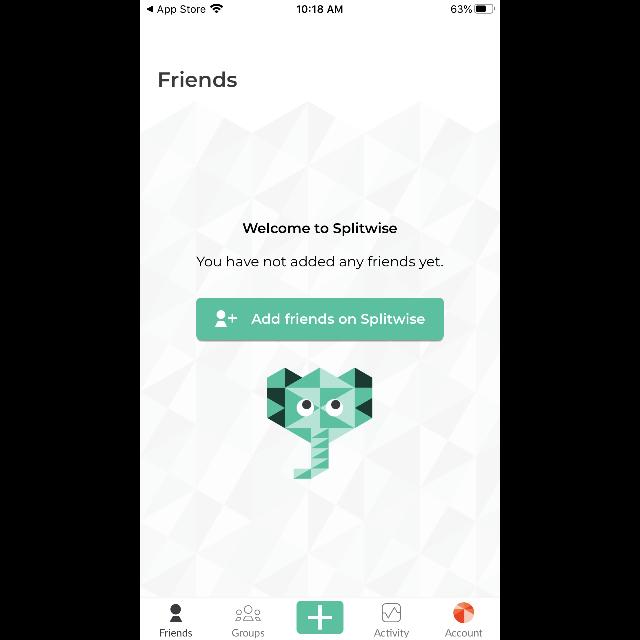icon: (297, 600, 343, 634), (454, 603, 474, 623), (235, 606, 261, 620), (382, 604, 401, 622), (170, 604, 182, 622)
image: (268, 368, 372, 478)
text: (197, 256, 443, 270), (243, 222, 397, 235), (160, 71, 237, 87), (374, 628, 410, 638), (232, 628, 264, 638), (160, 629, 192, 637), (446, 630, 482, 636)
textbutton: (196, 298, 444, 342)
uppertaskbar: (140, 1, 500, 15)
